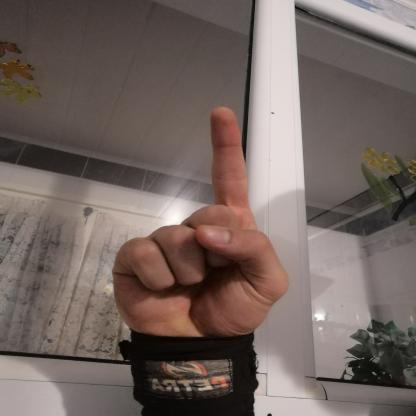BAA: (99, 100, 297, 350)
